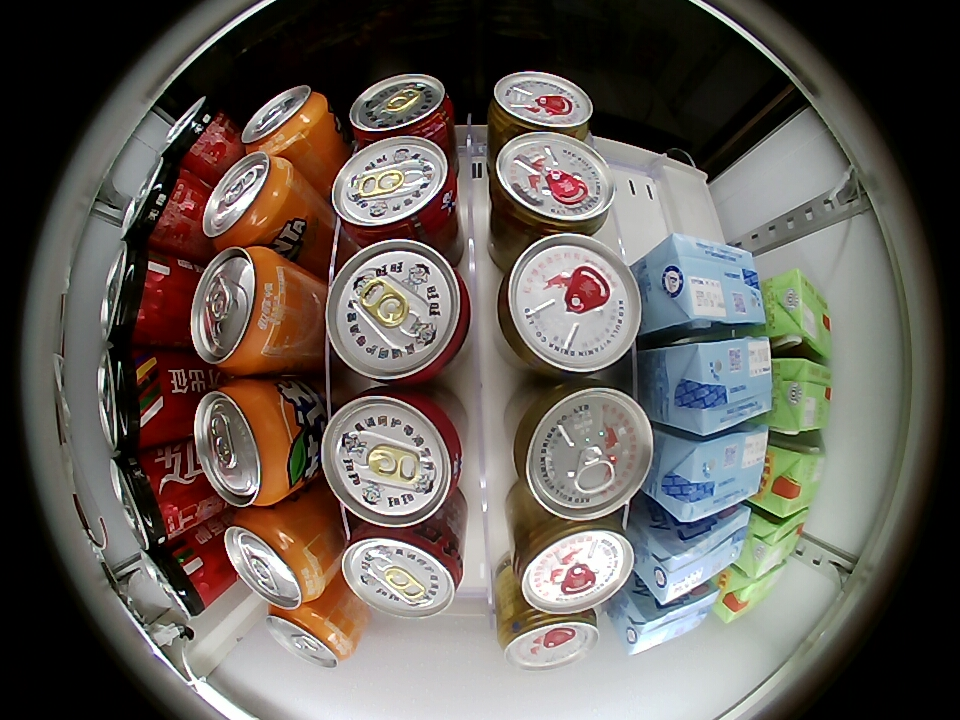fenda: (194, 380, 296, 507), (191, 246, 290, 375), (224, 508, 327, 610), (202, 151, 296, 248), (242, 85, 330, 157), (266, 603, 354, 668)
hongniu: (496, 234, 642, 377), (489, 130, 616, 237), (512, 516, 635, 614), (488, 72, 595, 140), (498, 609, 600, 671)
hongniu2: (512, 381, 653, 520)
lingdukele: (100, 242, 174, 346), (97, 345, 166, 451), (120, 156, 196, 251), (110, 451, 182, 550), (140, 541, 217, 619), (159, 96, 231, 169)
wanglaoji: (767, 268, 833, 358), (758, 440, 825, 519), (738, 507, 808, 578), (715, 559, 786, 623), (773, 359, 833, 434)
wangzainiunai: (326, 238, 472, 386), (320, 388, 465, 527), (331, 136, 460, 247), (340, 517, 464, 619), (348, 73, 455, 149)
weitanaiditang: (647, 233, 767, 333), (655, 424, 770, 525), (662, 335, 774, 436), (642, 504, 751, 607), (619, 582, 720, 657)
